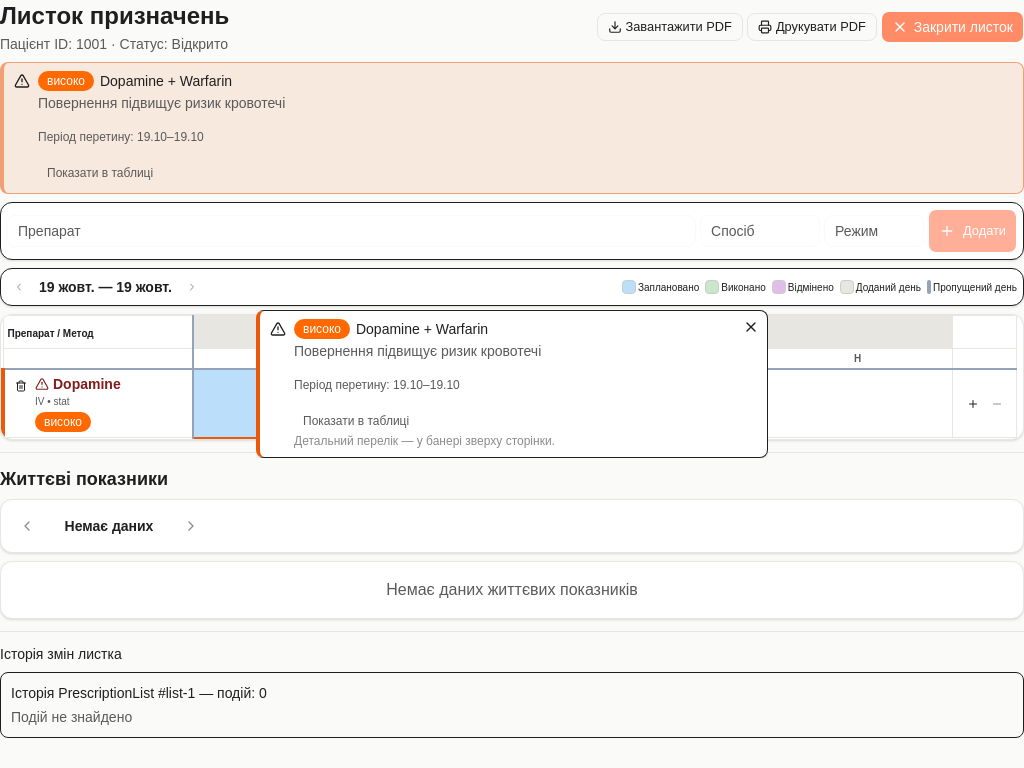
Test: PrescriptionDetailPage — drug interaction warnings (#304) › removing the warned item clears the banner and announces resolution (#355)
Expected: the message is shown, [0,62,1023,194]
Click the button named "Видалити препарат". click: (21, 386)
box: [9,374,33,398]
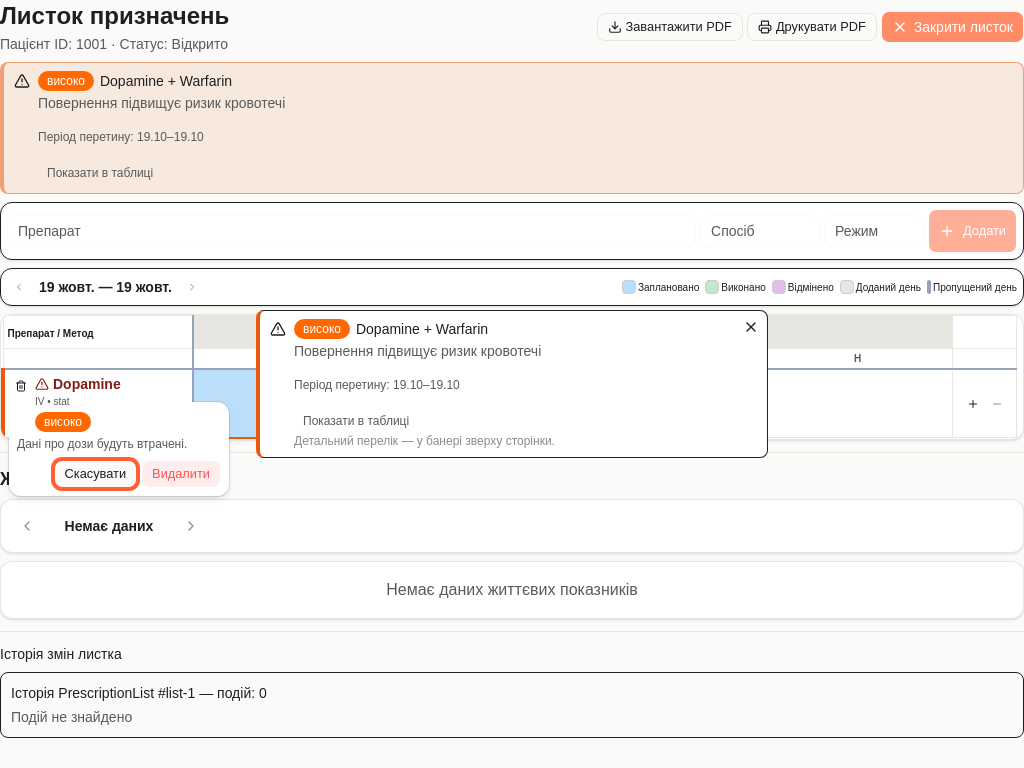
Click the button "Видалити". click: (181, 474)
box: [141,460,221,488]
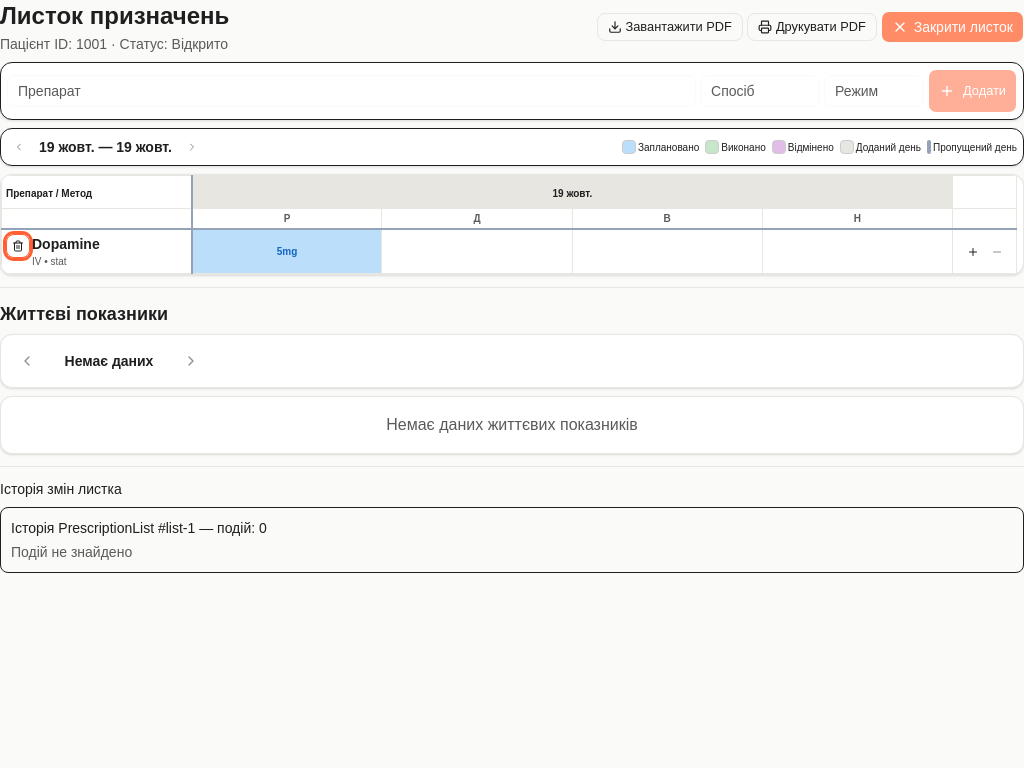
Expected: the message with test id "interaction-alert" is gone
